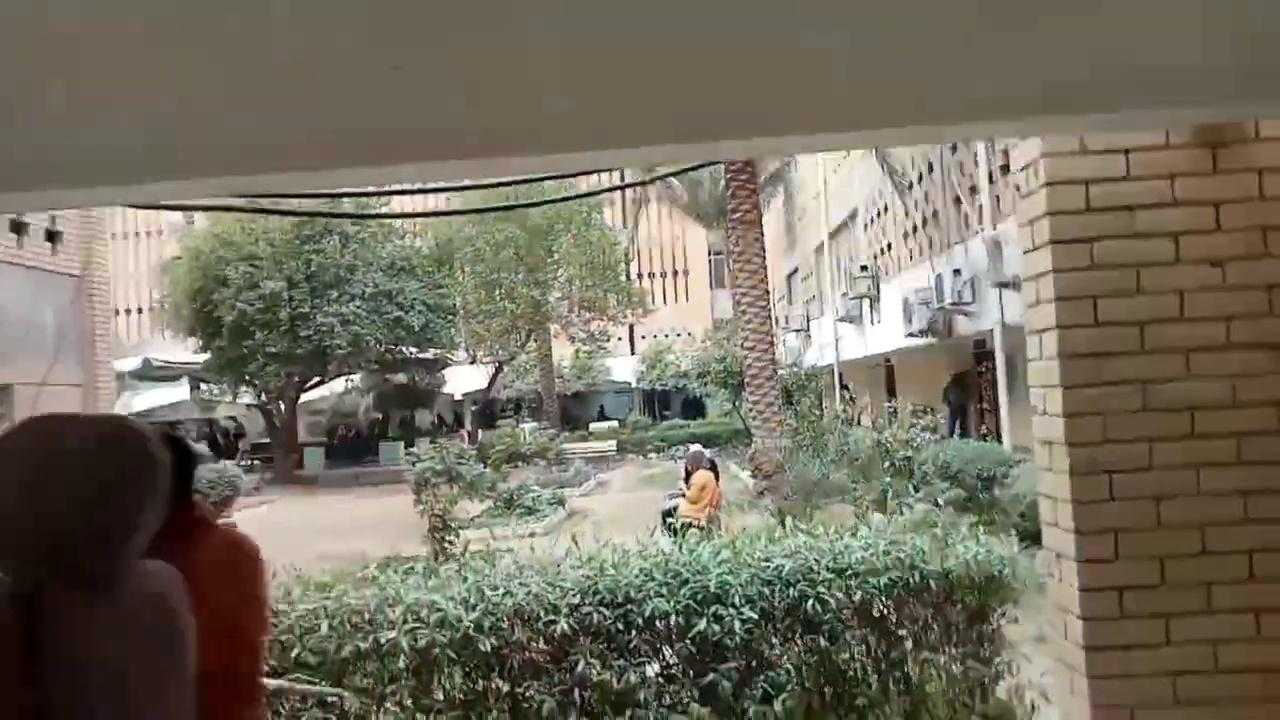person: (0, 411, 199, 718), (142, 431, 272, 719), (661, 448, 720, 536), (942, 372, 968, 438)
tree: (162, 194, 458, 480), (634, 157, 797, 497), (431, 178, 647, 433), (721, 157, 789, 490)
